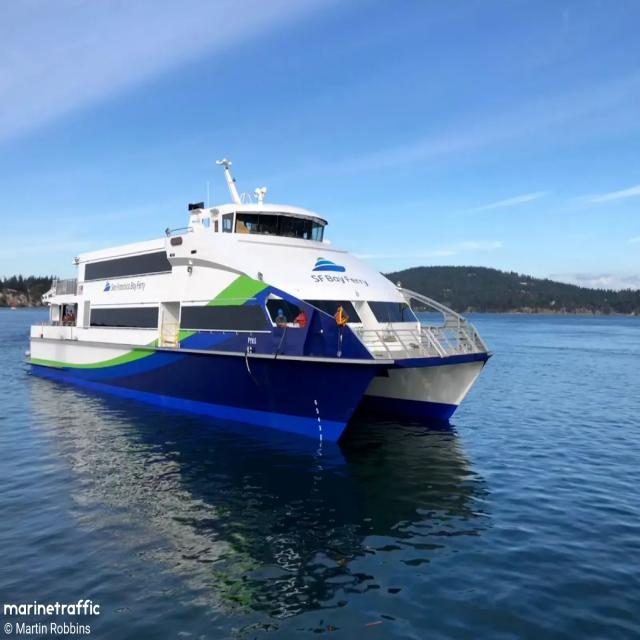Passenger: (28, 161, 490, 441)
